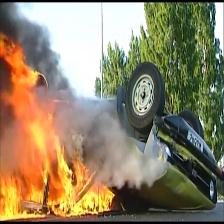fire: (8, 58, 45, 209), (66, 97, 116, 151), (48, 163, 90, 209)
